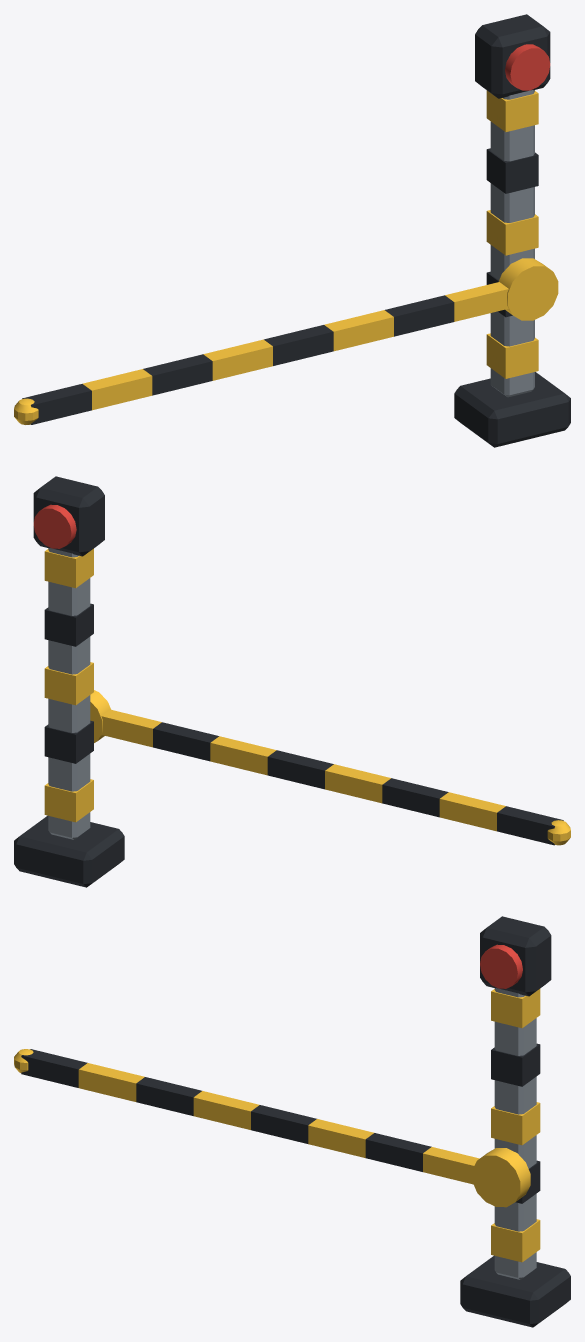
Rendered from crossing-gate.glb.
3 views of the same model, one above another, from view 1: azimuth 30°, elevation 25°; view 2: azimuth 150°, elevation 25°; view 3: azimuth 330°, elevation 25° (orthographic). The views are drawn at different scales.
Parts seen in each view (by area): view 1: crossing-gate; view 2: crossing-gate; view 3: crossing-gate.
Boxes of the visible parts, bbox=[...] form: crossing-gate: bbox=[14, 14, 570, 447]; crossing-gate: bbox=[14, 476, 570, 887]; crossing-gate: bbox=[14, 916, 570, 1327].
Bounding box in the file's own units: 4.69 × 3.25 × 0.6151.
